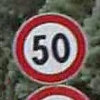limite 50: (12, 10, 87, 82)
